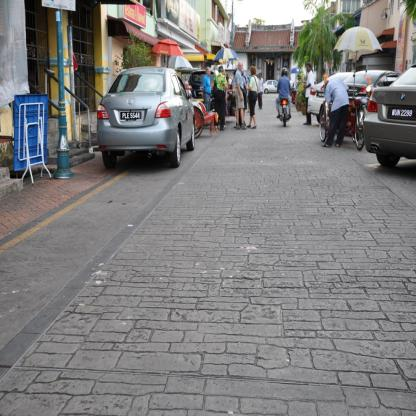Car: (98, 64, 416, 170), (264, 81, 280, 95)
